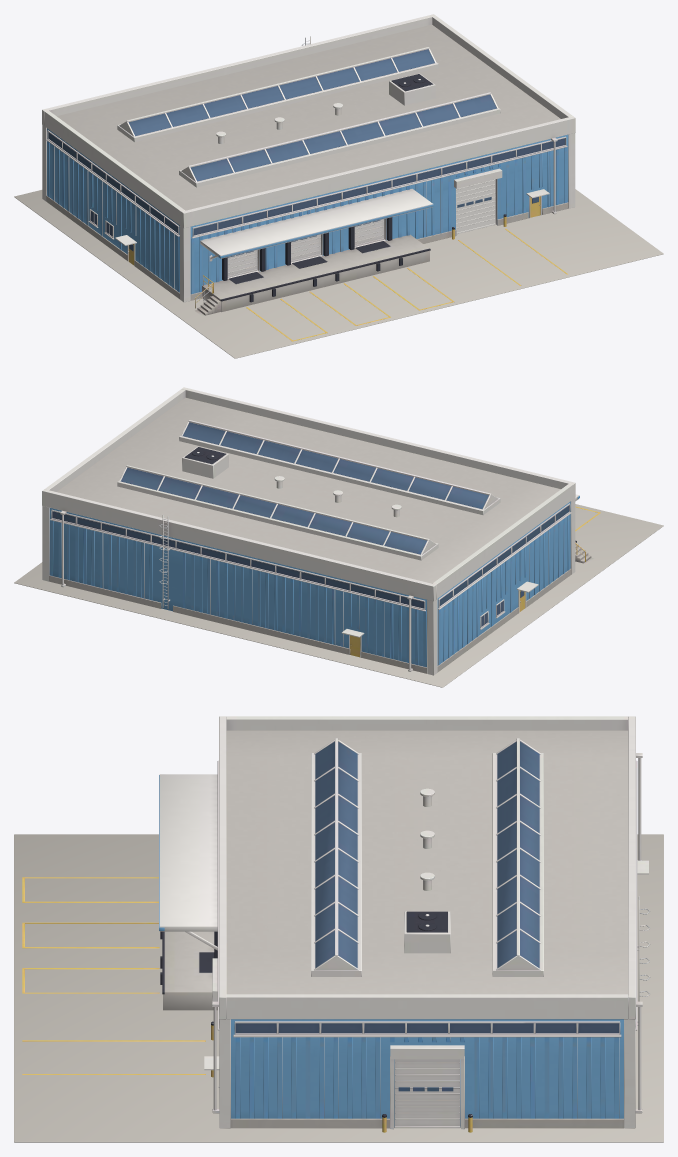
Rendered from warehouse.glb.
3 views of the same model, one above another, from view 1: azimuth 30°, elevation 25°; view 2: azimuth 150°, elevation 25°; view 3: azimuth 270°, elevation 25° (orthographic). The views are drawn at different scales.
Parts seen in each view (by area): view 1: warehouse_body, warehouse_hall, warehouse_yard_slab, warehouse_roller_door; view 2: warehouse_body, warehouse_hall, warehouse_yard_slab; view 3: warehouse_hall, warehouse_body, warehouse_yard_slab.
Boxes of the visible parts, x1=… form: warehouse_body: x1=42, y1=14, x2=575, y2=341; warehouse_hall: x1=47, y1=24, x2=568, y2=294; warehouse_yard_slab: x1=14, y1=189, x2=663, y2=358; warehouse_roller_door: x1=456, y1=179, x2=495, y2=234; warehouse_body: x1=42, y1=387, x2=600, y2=675; warehouse_hall: x1=49, y1=397, x2=570, y2=667; warehouse_yard_slab: x1=14, y1=504, x2=663, y2=687; warehouse_hall: x1=226, y1=730, x2=628, y2=1126; warehouse_body: x1=22, y1=716, x2=650, y2=1132; warehouse_yard_slab: x1=14, y1=834, x2=663, y2=1142.
Size of the model in its own units: 44 by 9.54 by 39.3.
5 materials, 2 textured.
